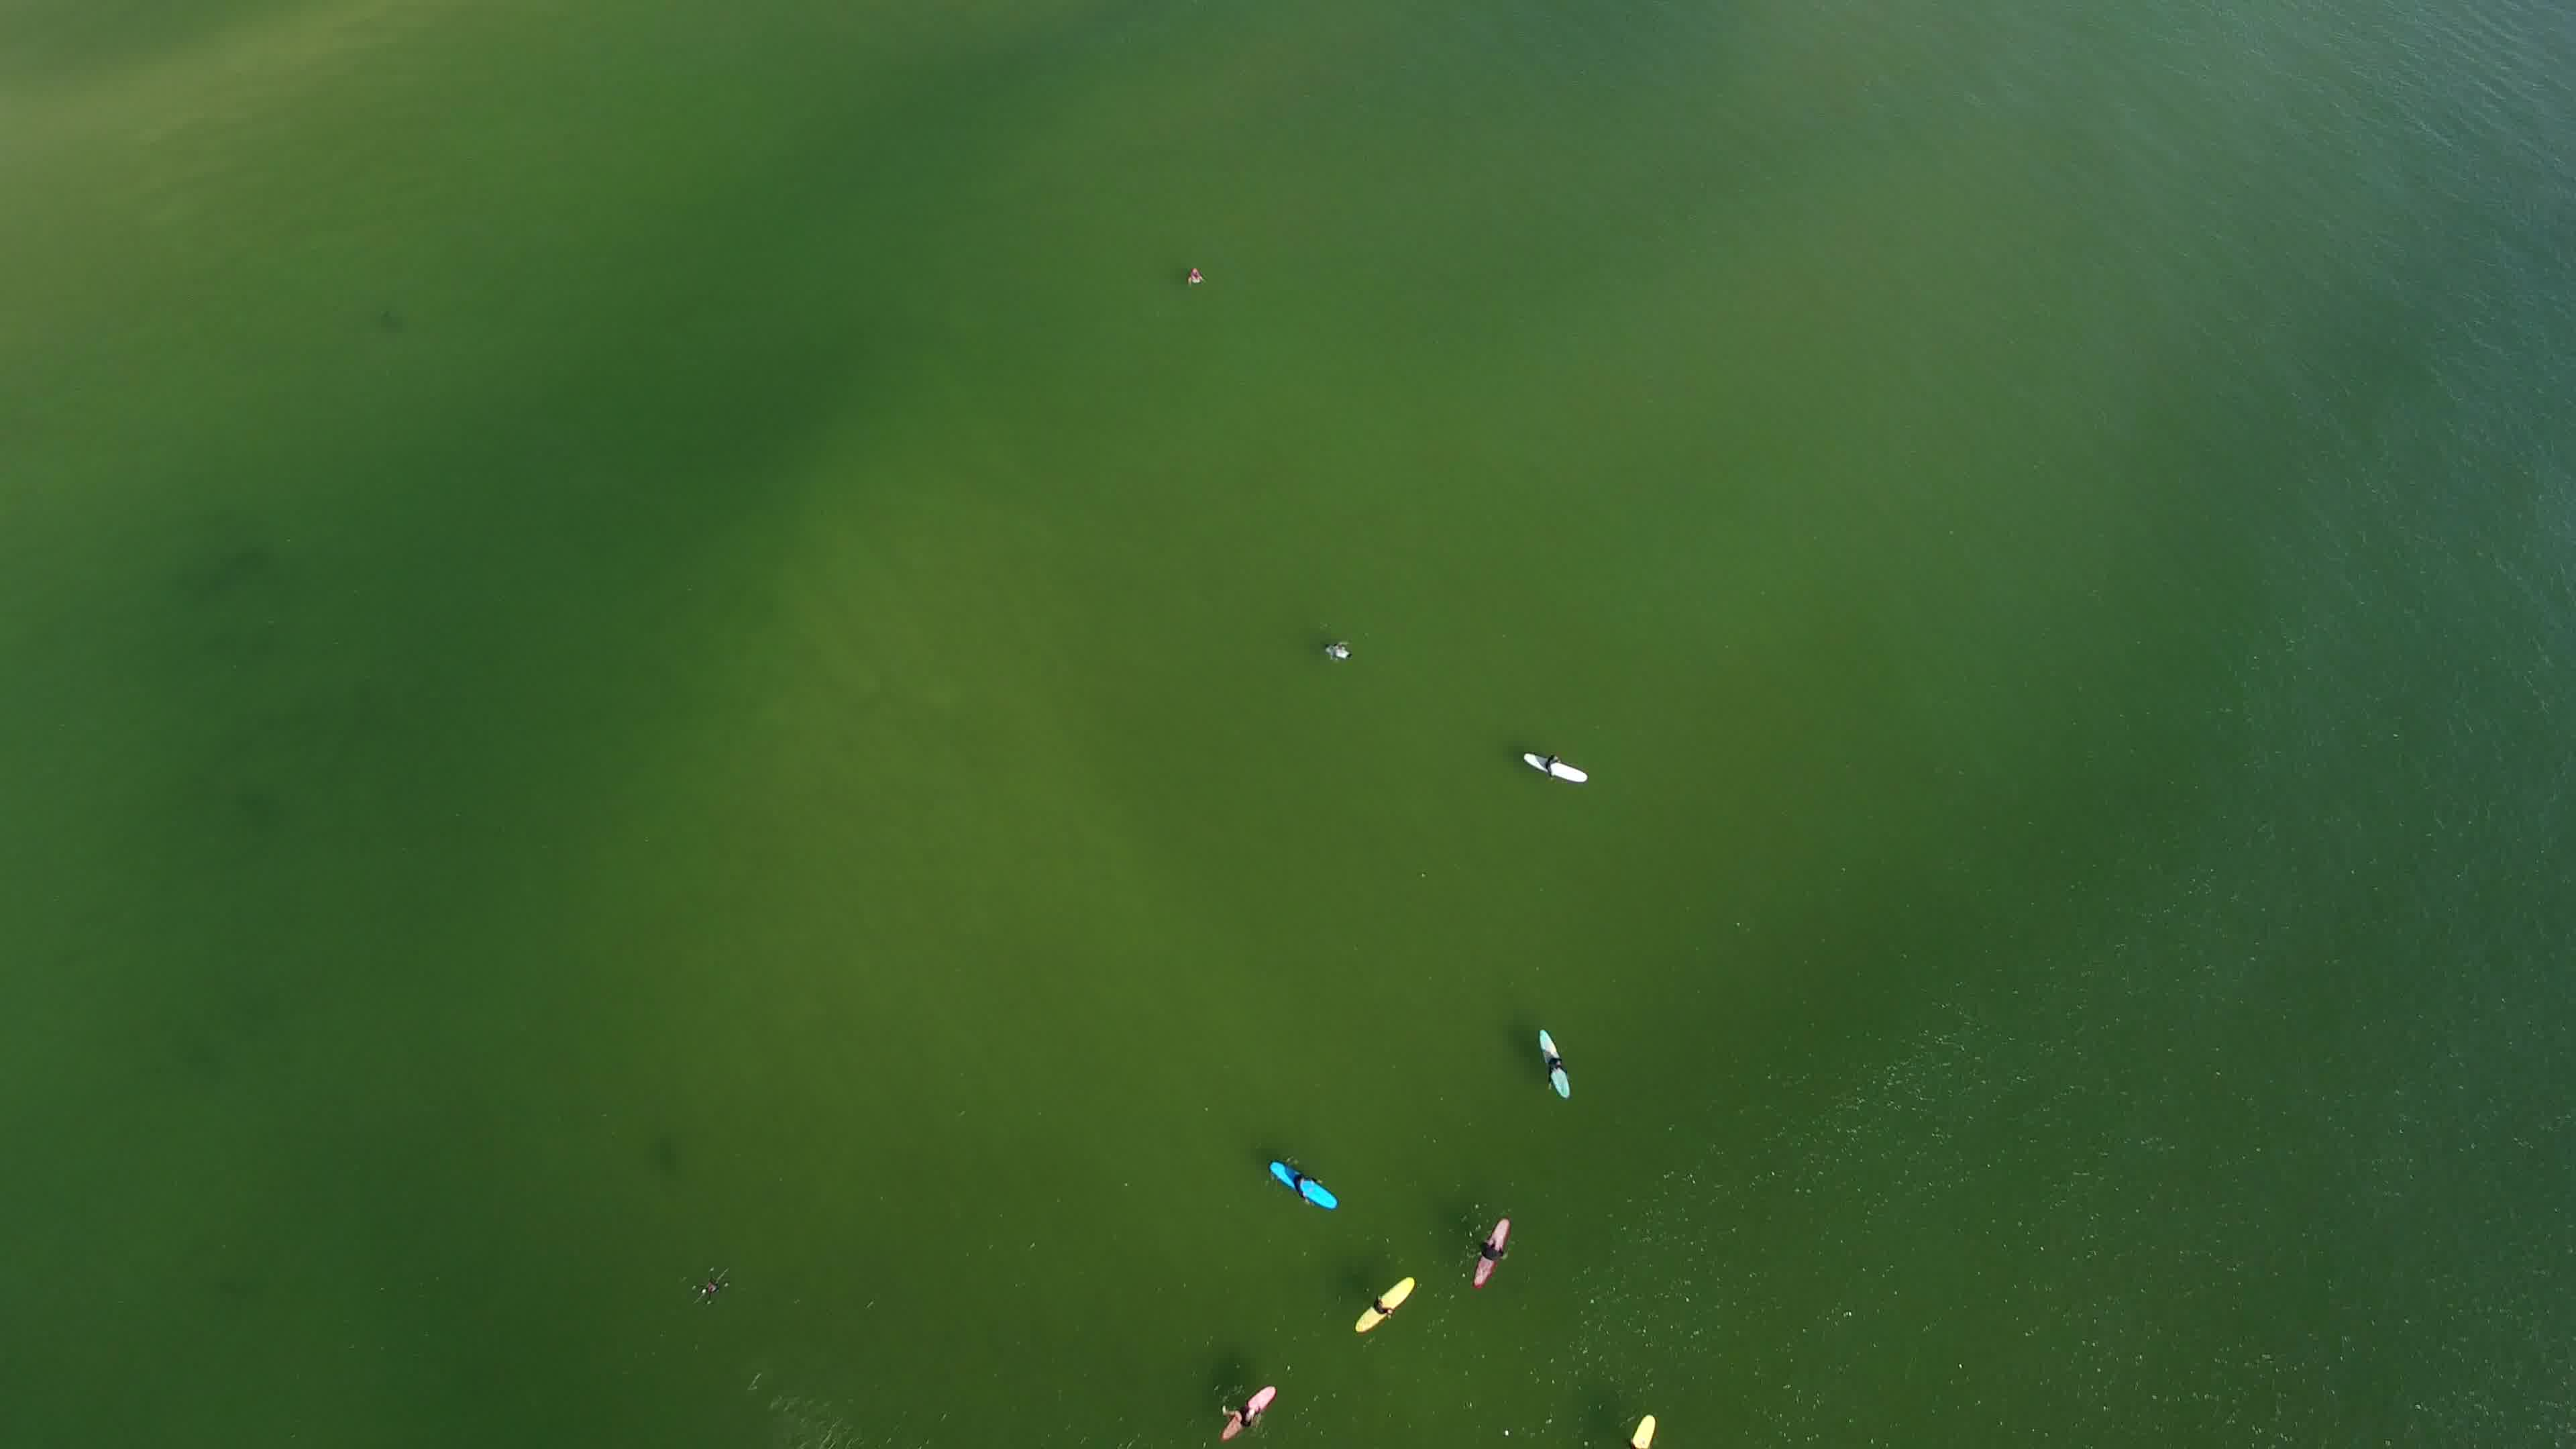surfer: (1527, 1014, 1583, 1111), (1263, 1157, 1346, 1217), (1217, 1376, 1286, 1442), (1352, 1272, 1415, 1343), (1468, 1207, 1518, 1295), (1514, 747, 1589, 789), (1171, 253, 1217, 297), (1622, 1401, 1660, 1449), (1316, 640, 1364, 669)
